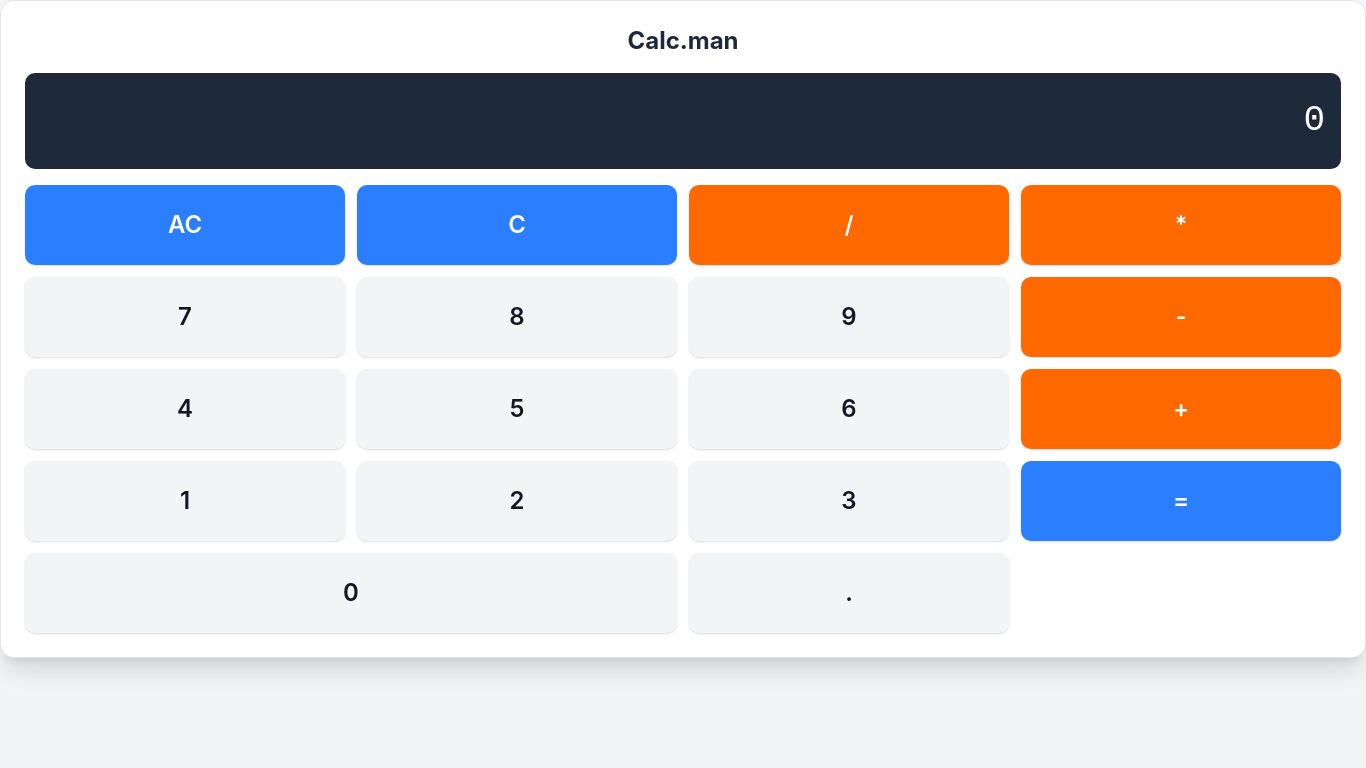
Calculator Component › should calculate addition: 5 + 3 = 8
Expected: the element showing "0" is shown, [25, 73, 1341, 169]
Click the button "5".
click(517, 409)  # box [357, 369, 677, 449]
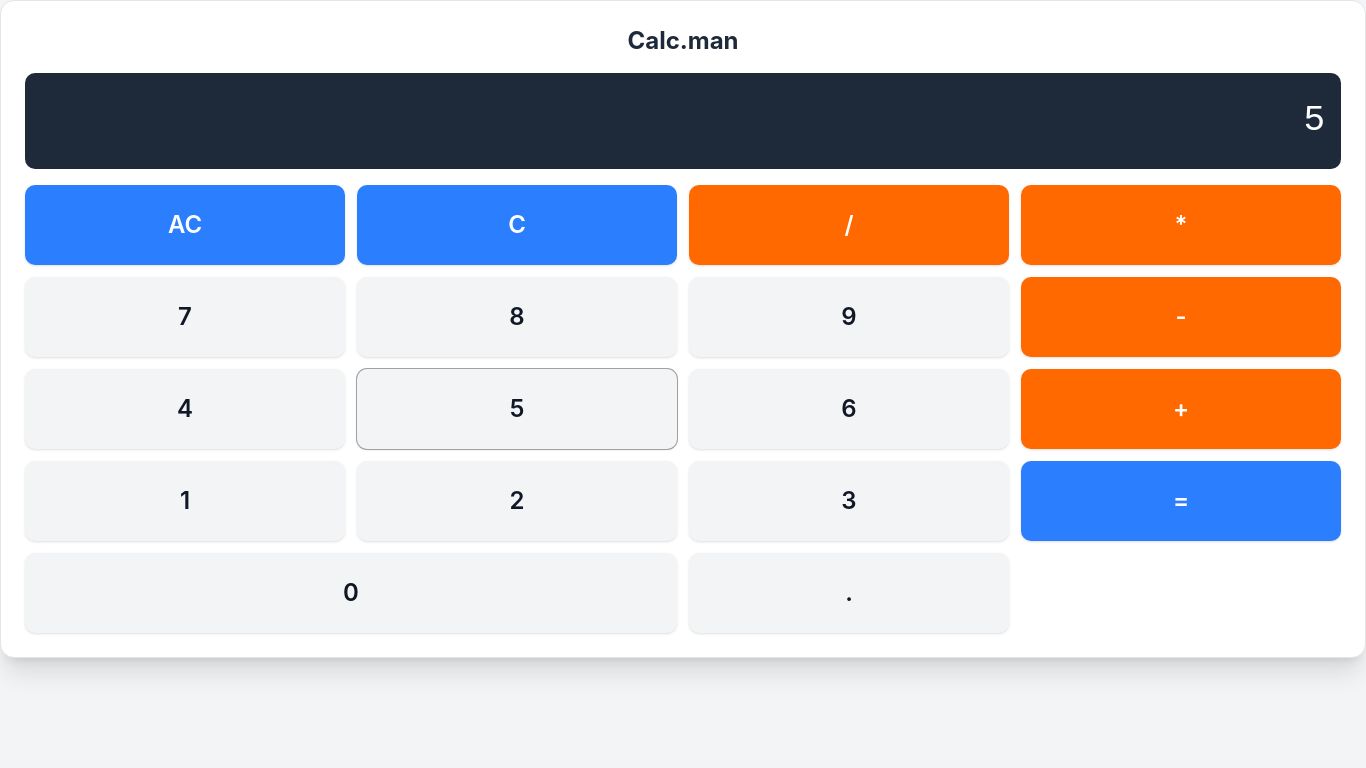
Click the button named "Add".
click(1181, 409)  # box [1021, 369, 1341, 449]
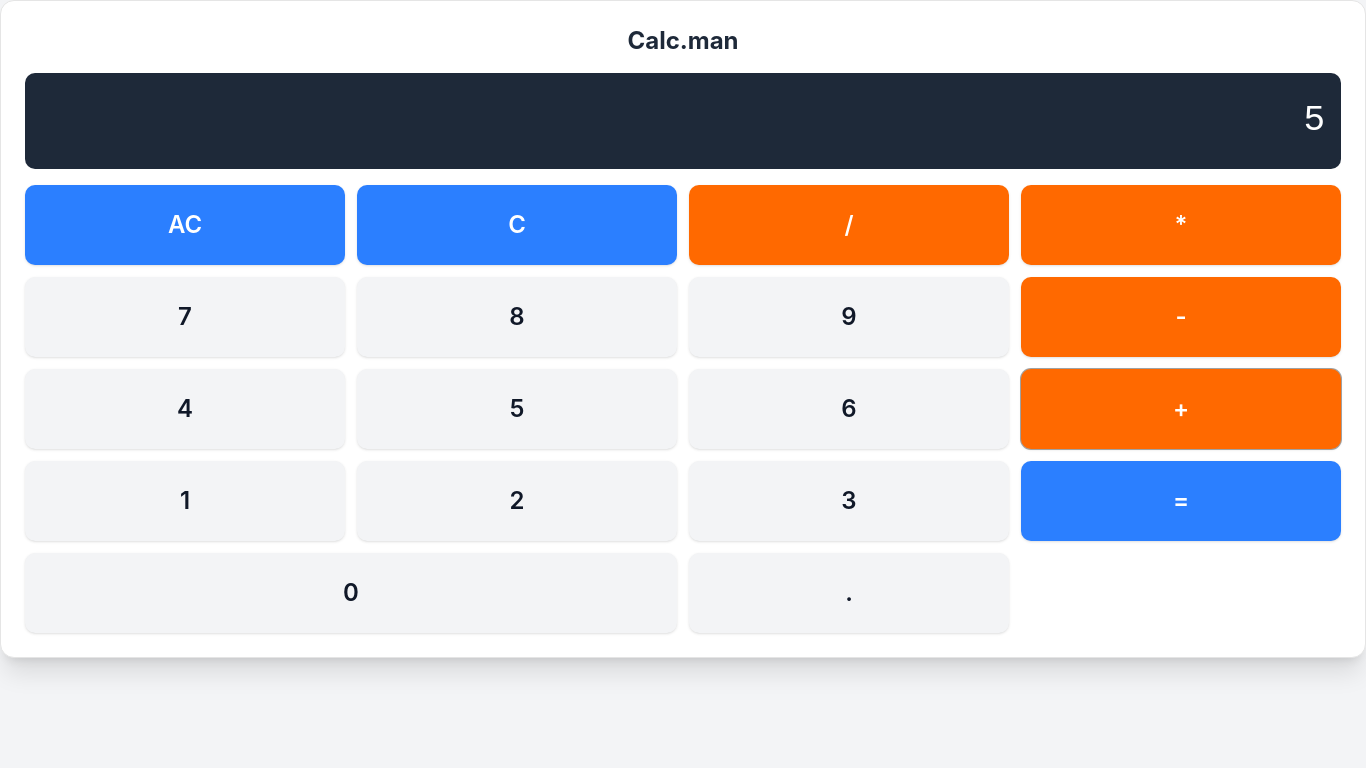
Click the button "3".
click(849, 501)  # box [689, 461, 1009, 541]
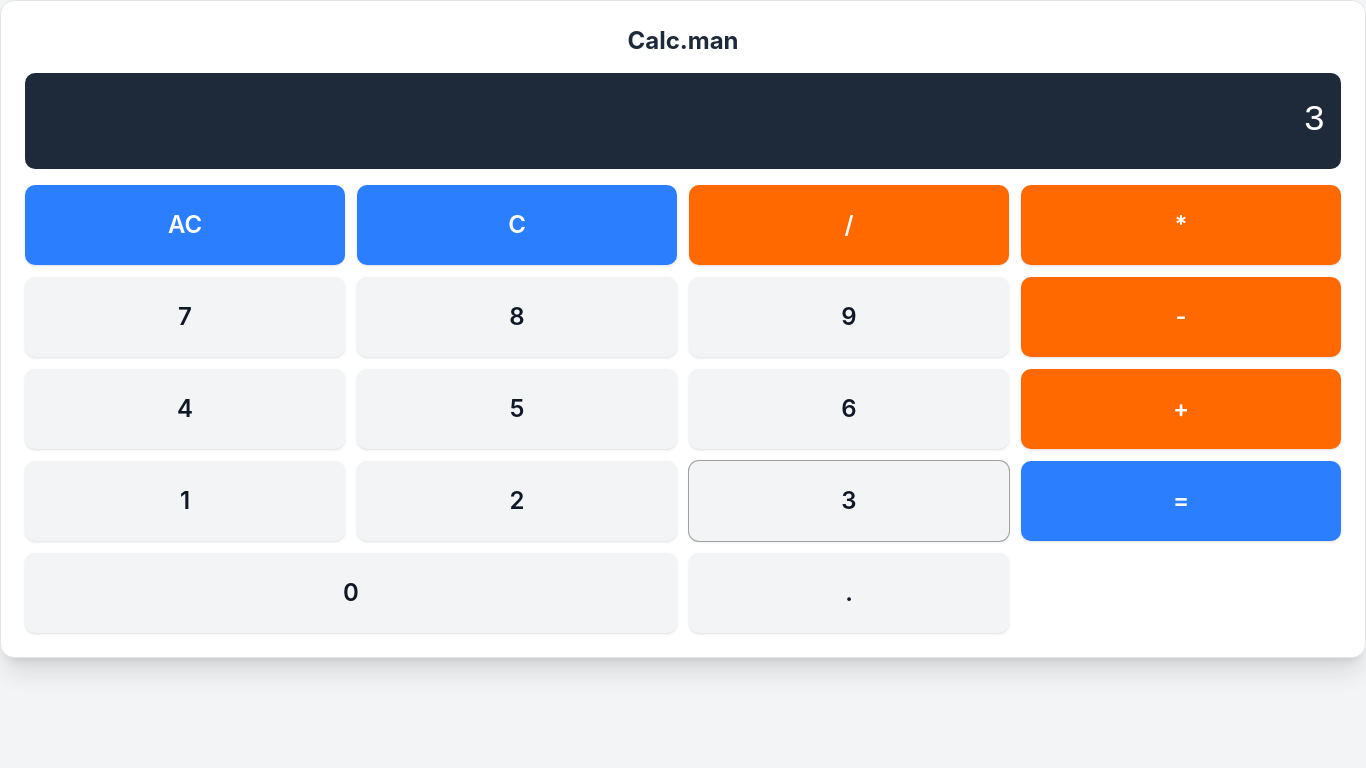
Click the button named "Equals".
click(1181, 501)  # box [1021, 461, 1341, 541]
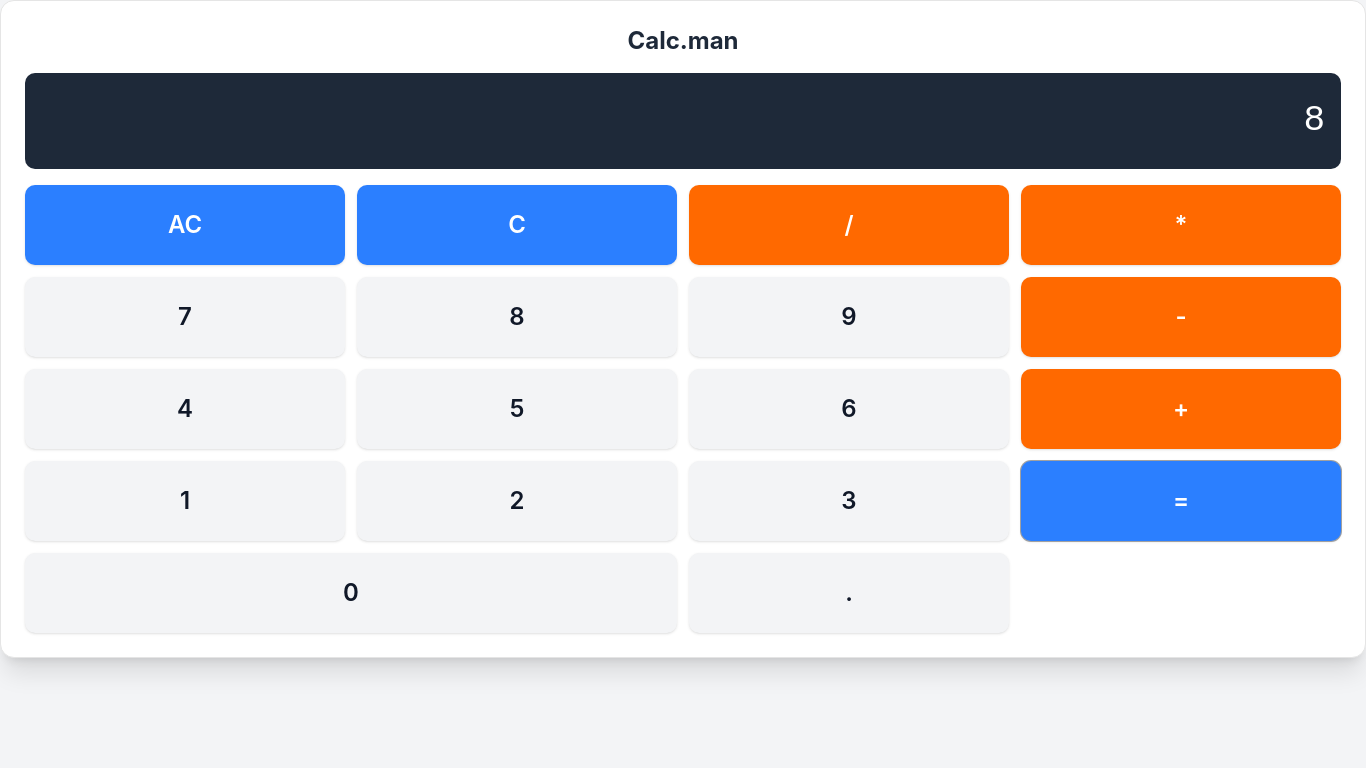
Result: the element showing "8" is shown at [25, 73, 1341, 169]
